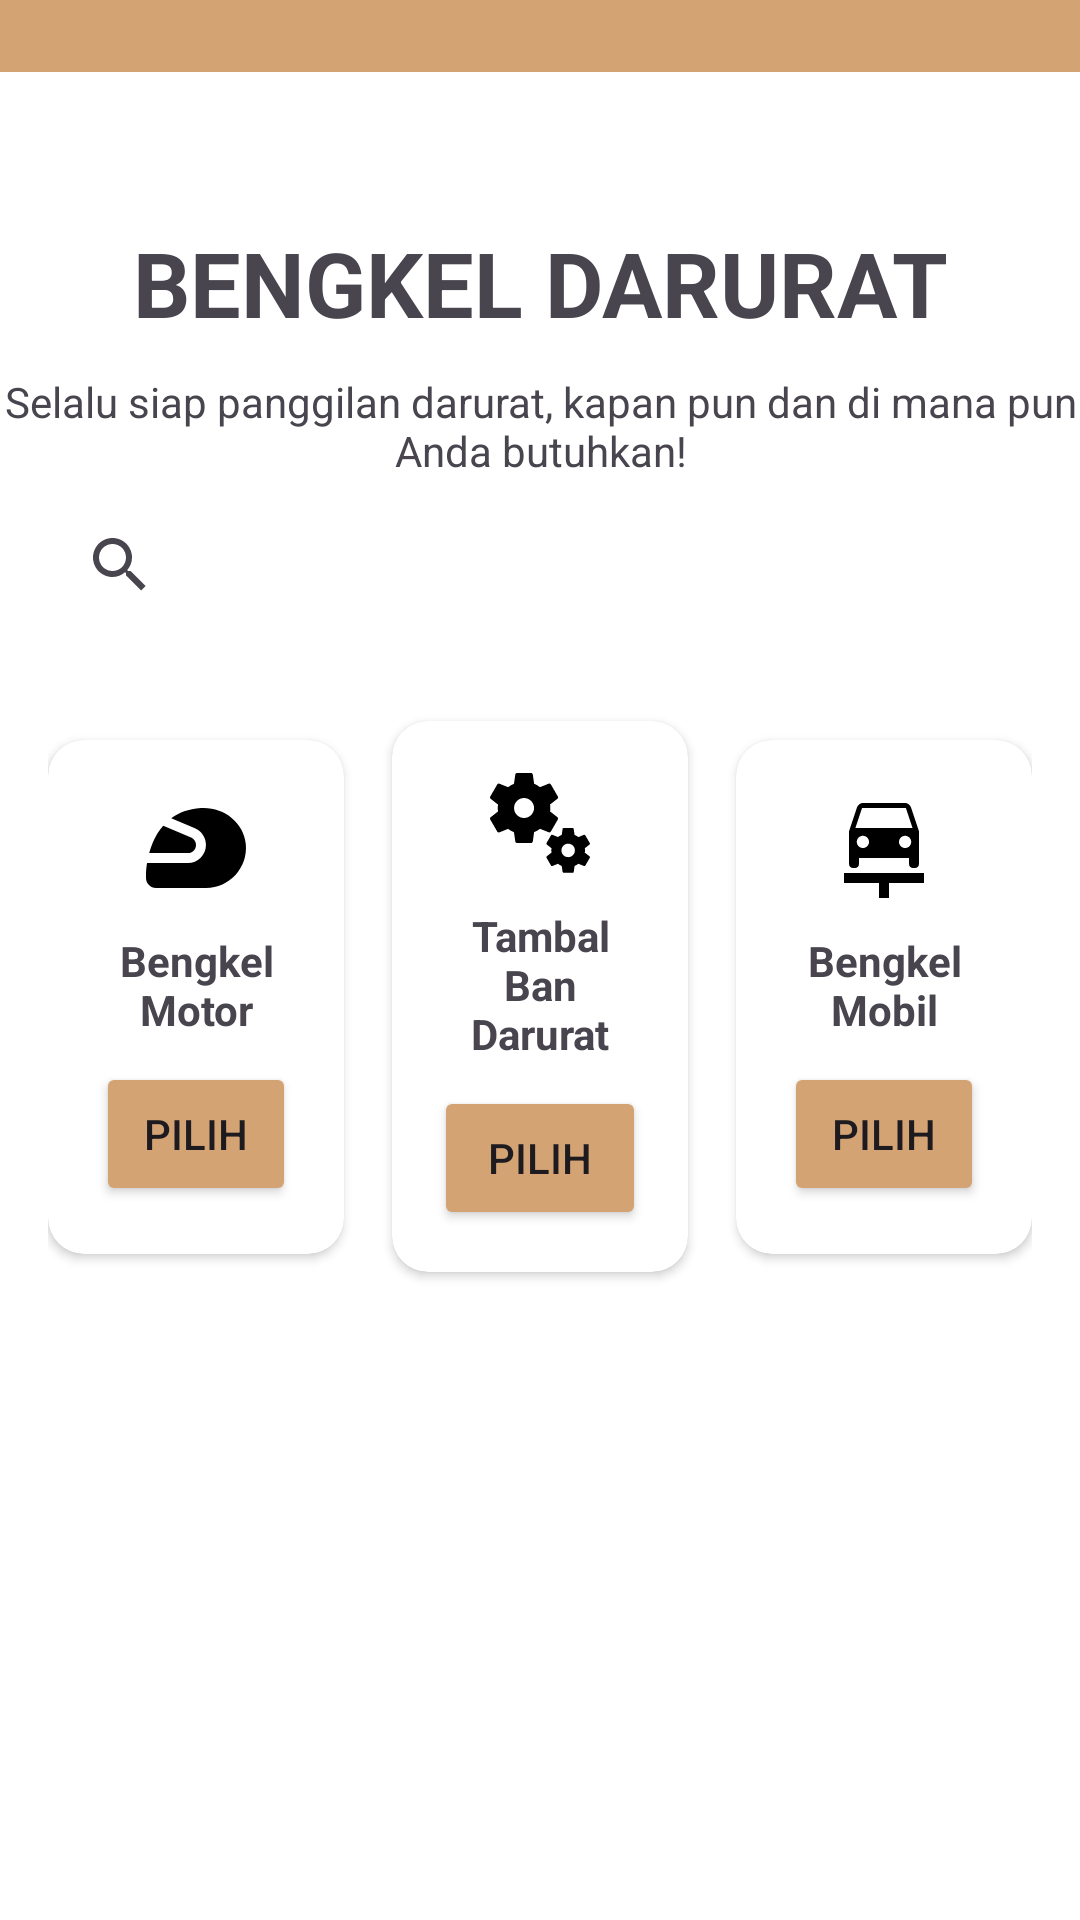

Where icons sit on this 1080 × 1920 app screen, as [x1,y1,x2,y2]:
bike: [146,808,246,888]
car: [844,803,924,898]
services: [490,773,590,873]
